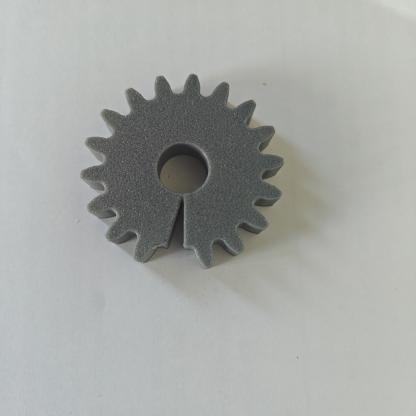defect: (138, 184, 222, 275)
gear: (71, 70, 289, 282)
